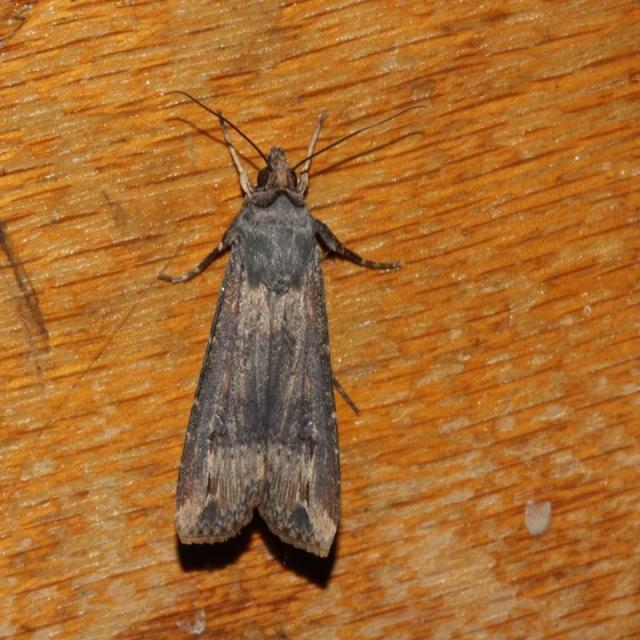black cutworm: (179, 137, 369, 571)
